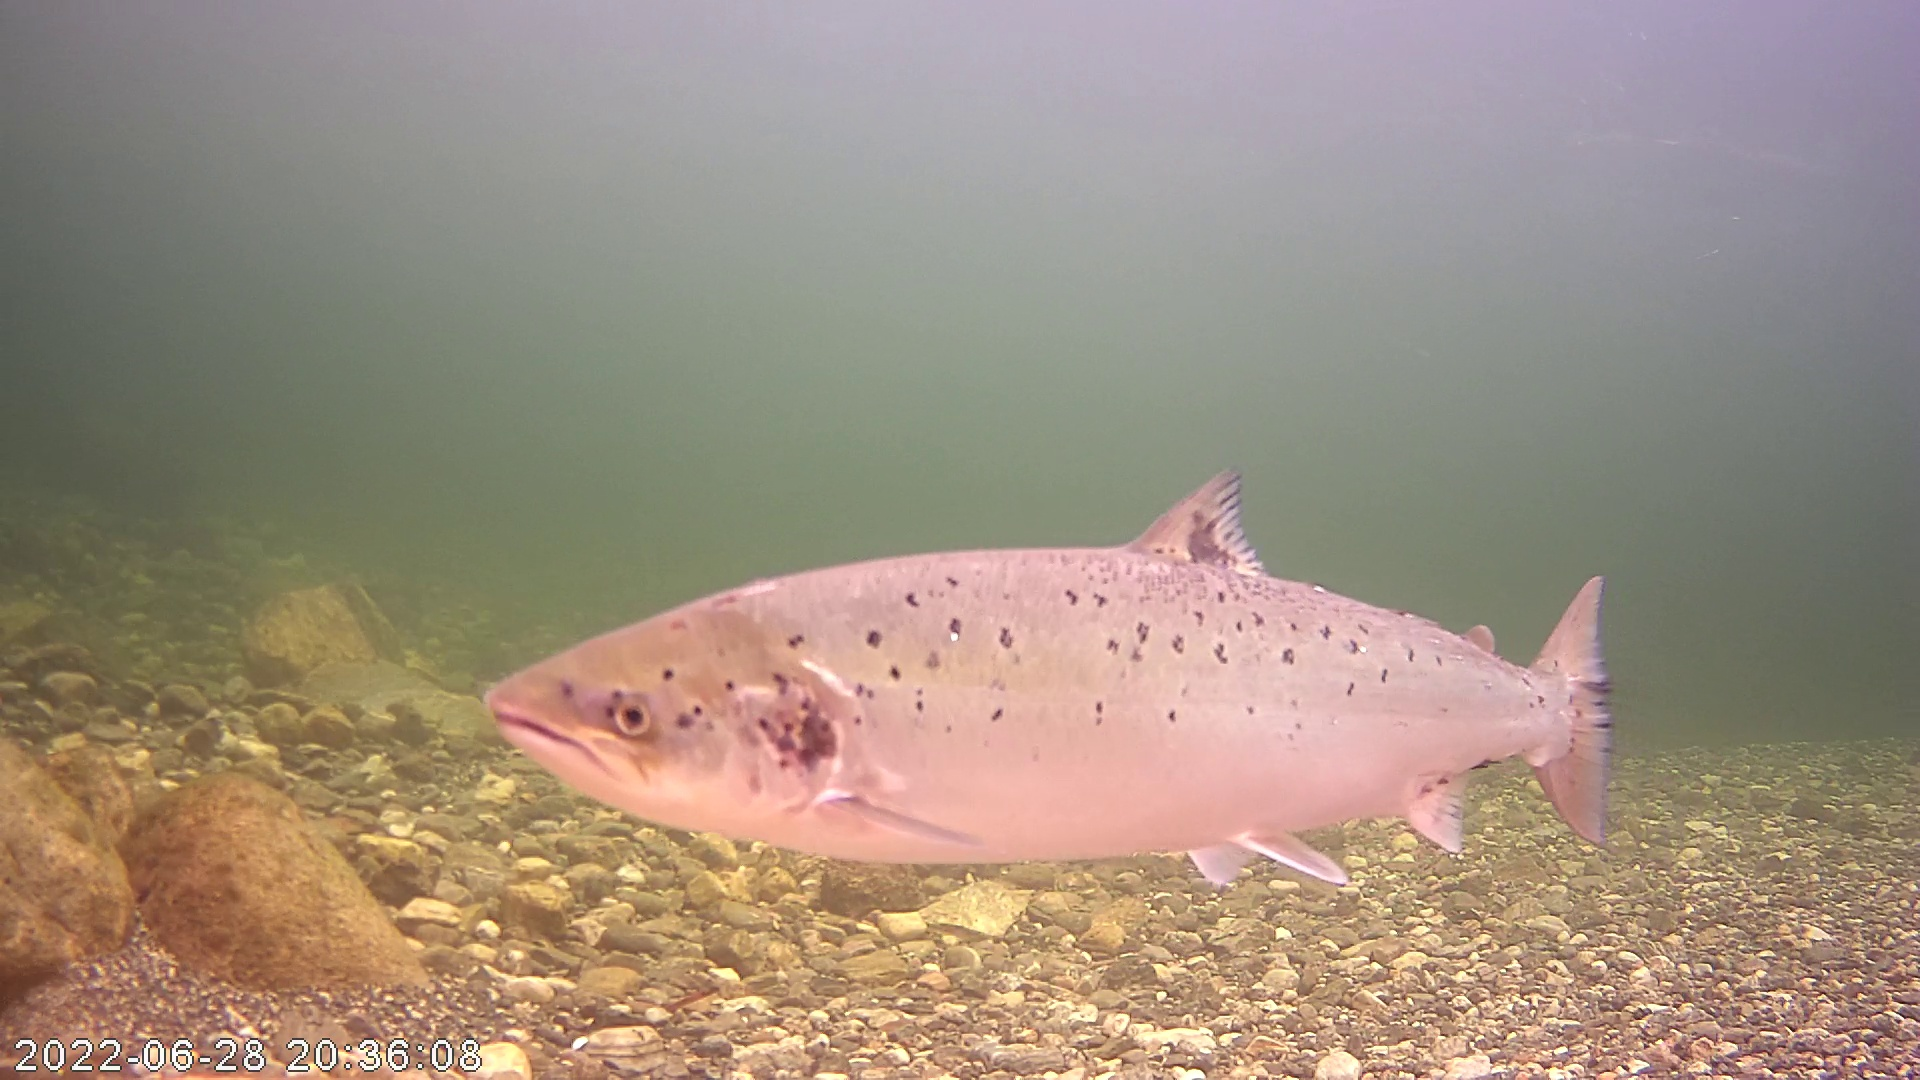salmon: (469, 462, 1621, 887)
